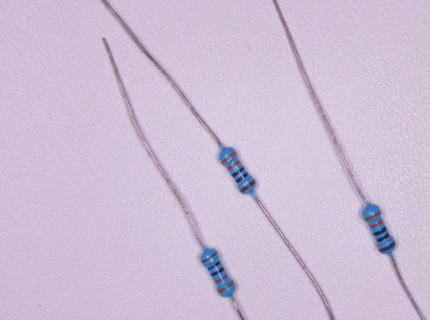Black band: (207, 260, 221, 271), (210, 266, 224, 277), (231, 166, 245, 177), (235, 172, 249, 183), (372, 226, 387, 236), (376, 232, 390, 242)
Brown band: (240, 180, 255, 193), (201, 251, 217, 263), (378, 241, 395, 252)
Orange band: (221, 150, 237, 164), (218, 280, 235, 293), (364, 210, 382, 222), (214, 273, 229, 285), (369, 219, 384, 229), (227, 160, 240, 171)
